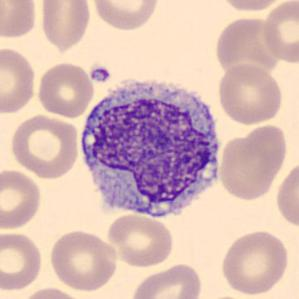Monocyte: (74, 70, 227, 224)
Platelets: (87, 64, 113, 84)
RBC: (216, 122, 287, 204), (218, 227, 292, 296), (8, 112, 82, 180), (47, 227, 120, 293), (215, 62, 285, 126), (213, 16, 276, 82), (106, 213, 175, 268), (35, 61, 95, 118), (128, 261, 205, 299), (0, 167, 44, 232), (0, 229, 44, 292), (38, 0, 92, 51), (0, 44, 38, 115), (259, 0, 298, 64), (89, 0, 161, 32), (274, 158, 298, 231), (0, 0, 39, 41), (216, 0, 290, 13), (18, 286, 88, 299), (200, 294, 254, 299)
